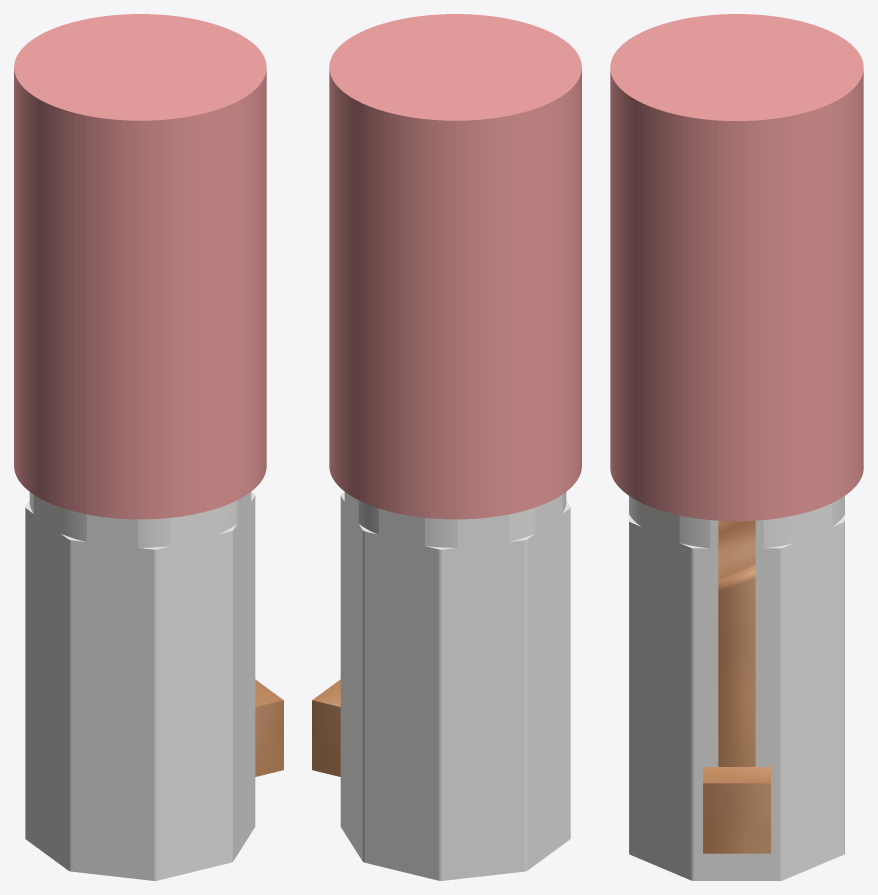
The model's file is Container_Lipstick__0001.glb.
3 views of the same model, side by side, from view 1: azimuth 30°, elevation 25°; view 2: azimuth 150°, elevation 25°; view 3: azimuth 270°, elevation 25° (orthographic).
Visible parts, largest first — view 1: cap::cap_shell, tube_base::tube_body, slider::slider_body; view 2: cap::cap_shell, tube_base::tube_body, slider::slider_body; view 3: cap::cap_shell, tube_base::tube_body, slider::bullet_red, slider::slider_body.
Part boxes in pixels (left/top/right/bottom): cap::cap_shell: left=14, top=14, right=266, bottom=519; tube_base::tube_body: left=25, top=491, right=255, bottom=880; slider::slider_body: left=255, top=679, right=283, bottom=776; cap::cap_shell: left=329, top=14, right=581, bottom=519; tube_base::tube_body: left=340, top=491, right=570, bottom=880; slider::slider_body: left=312, top=679, right=340, bottom=776; cap::cap_shell: left=610, top=14, right=863, bottom=521; tube_base::tube_body: left=629, top=496, right=844, bottom=880; slider::bullet_red: left=718, top=520, right=755, bottom=766; slider::slider_body: left=703, top=766, right=770, bottom=853.
Size of the model in its own units: 0.0283 by 0.0875 by 0.0262.
Materials: 4 (2 with a texture image).
